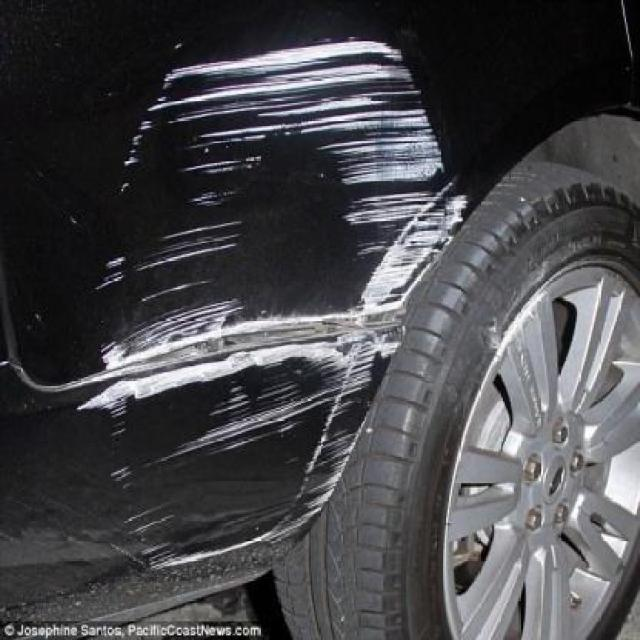scratch: (41, 350, 436, 510), (82, 28, 477, 187), (66, 191, 460, 350), (45, 511, 344, 605)
